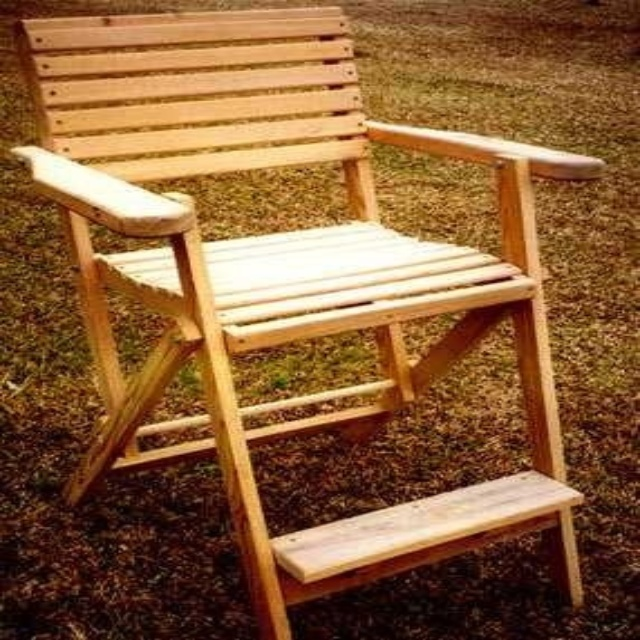obstacle: (2, 0, 636, 638)
